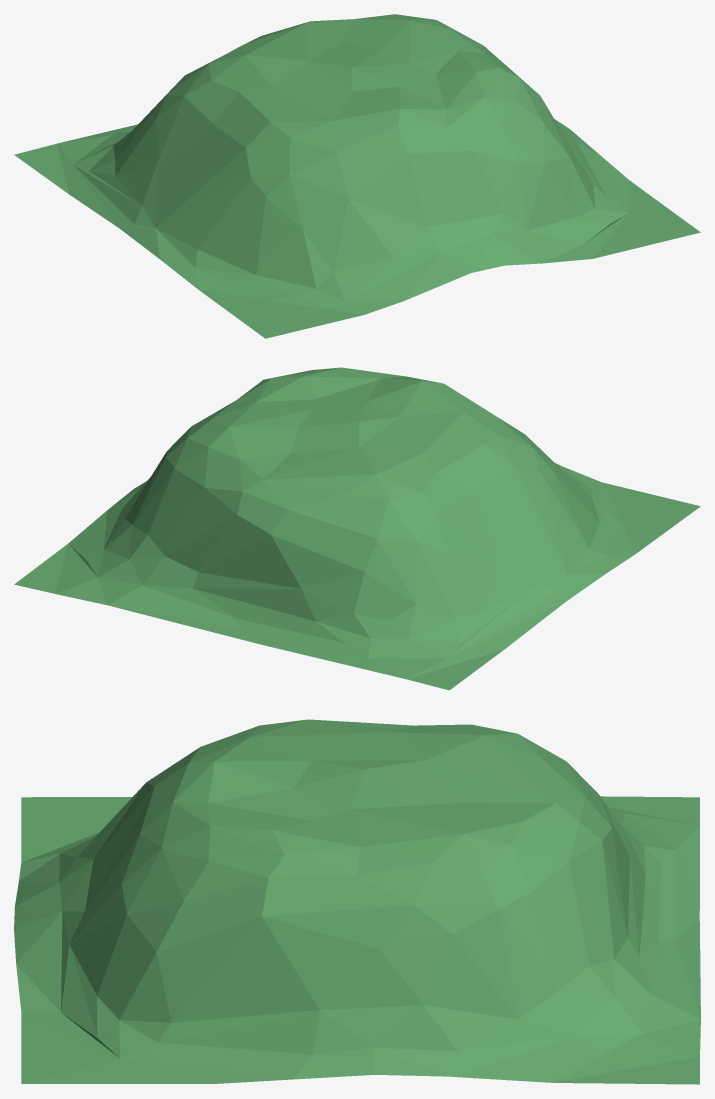
File: grass.glb
The picture shows the model from 3 angles, top to bottom: view 1: azimuth 30°, elevation 25°; view 2: azimuth 150°, elevation 25°; view 3: azimuth 270°, elevation 25°; orthographic projection. The views are drawn at different scales.
Parts seen in each view (by area): view 1: Plane; view 2: Plane; view 3: Plane.
Boxes of the visible parts, <box> form: Plane: <box>14,14,700,338</box>; Plane: <box>14,367,700,690</box>; Plane: <box>14,719,700,1084</box>.
Size of the model in its own units: 203 by 55.99 by 203.
